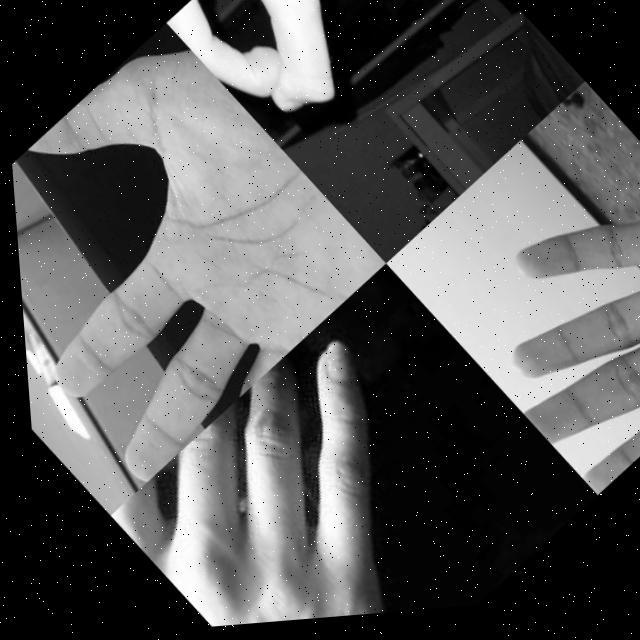no-gloves: (2, 13, 393, 498), (91, 312, 528, 636), (423, 148, 640, 515), (163, 0, 461, 180)
